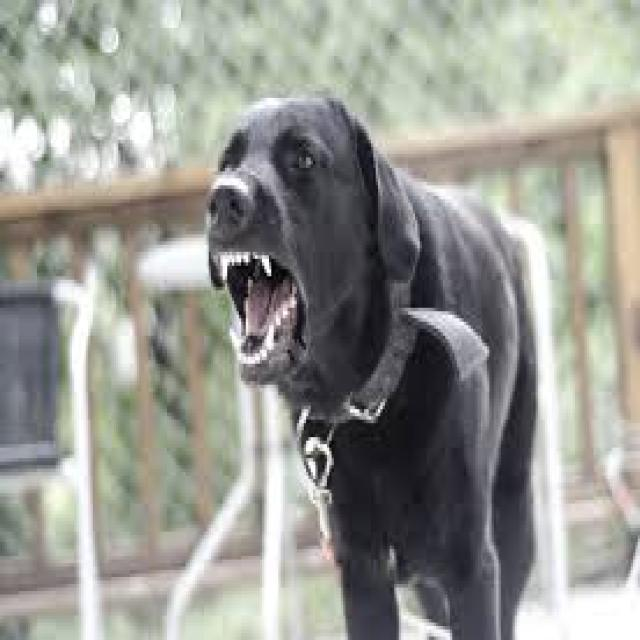angry: (188, 83, 554, 628)
